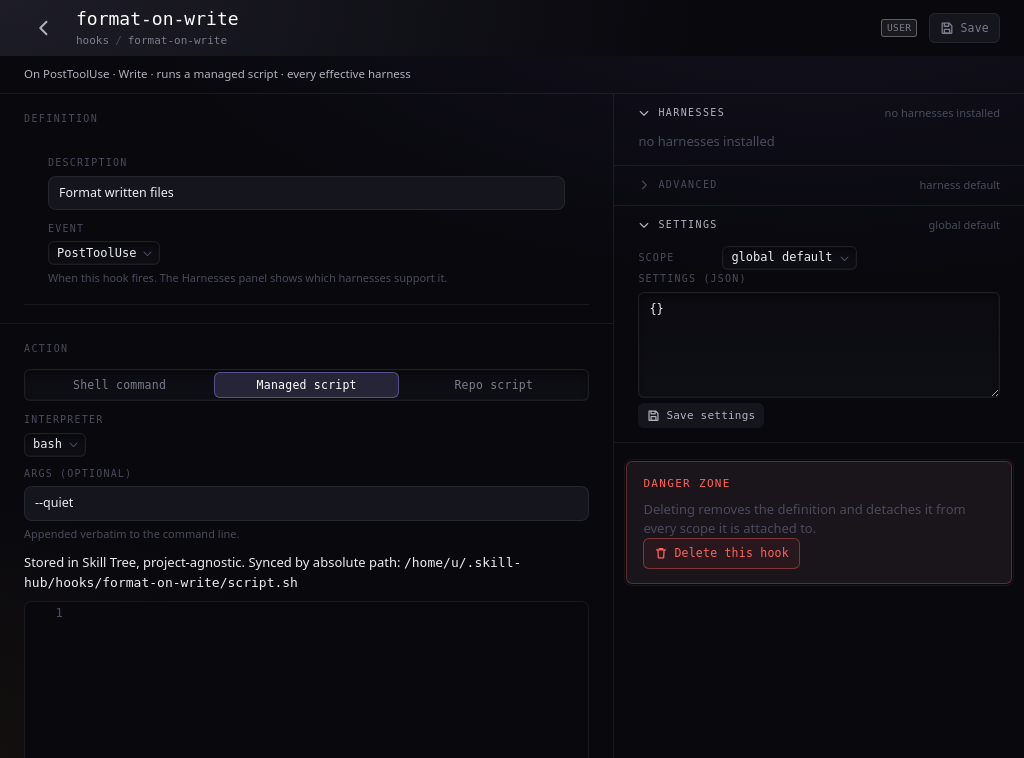
it: HookActionEditor — switching away from a managed script (D6) › gates the save behind a confirm that names the file being deleted
Expected: the text "/home/u/.skill-hub/hooks/format-on-write/script.sh" is shown, [24,556,521,590]
Step 1. Click the radio button labelled "Shell command" → point(120, 385), box [73,378,166,392]
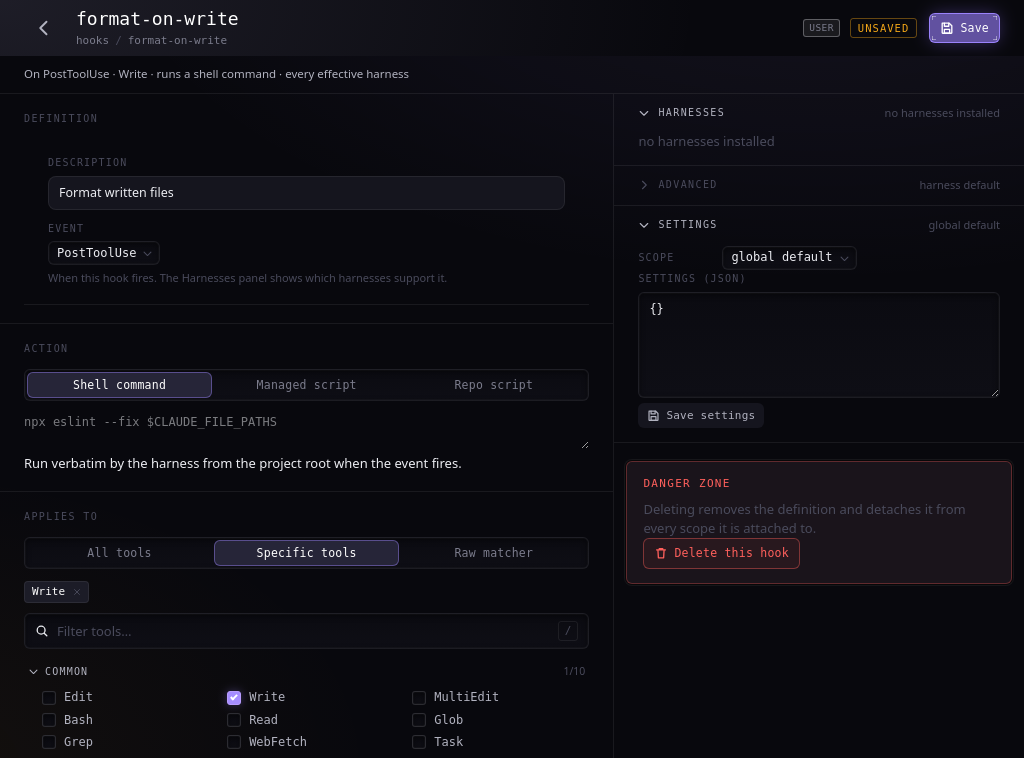
Step 2. Type "echo hi" into the text box named "command" → point(307, 431), box [24,413,589,449]
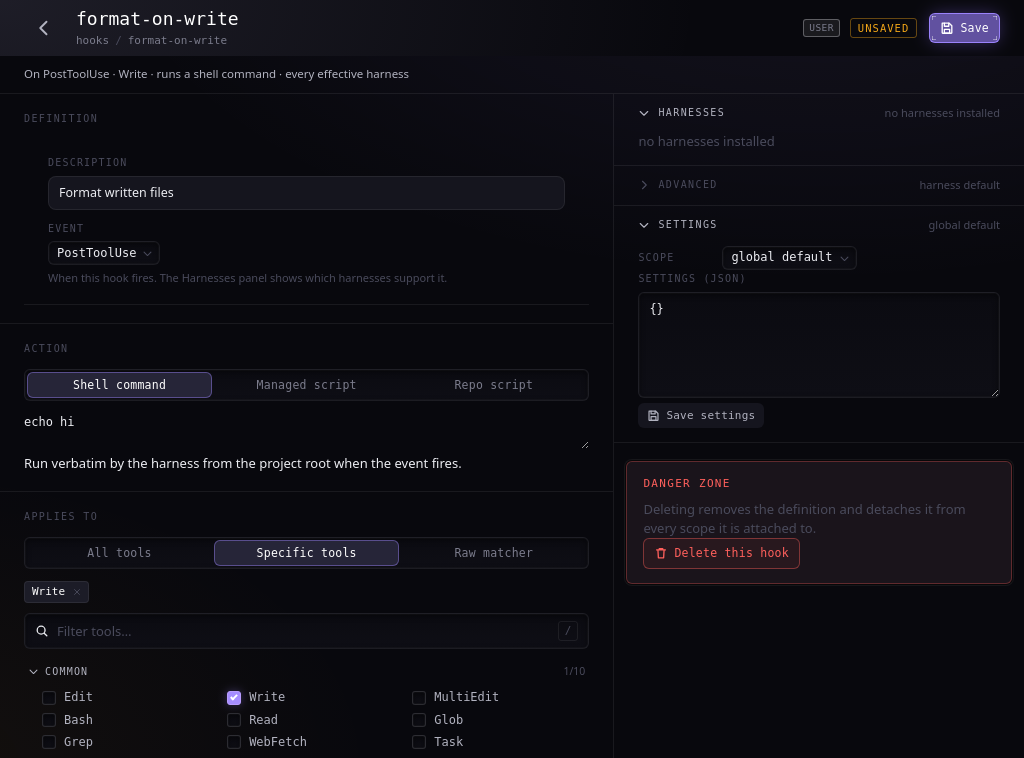
Step 3. Click the button "Save" → point(965, 28), box [929,13,1000,43]
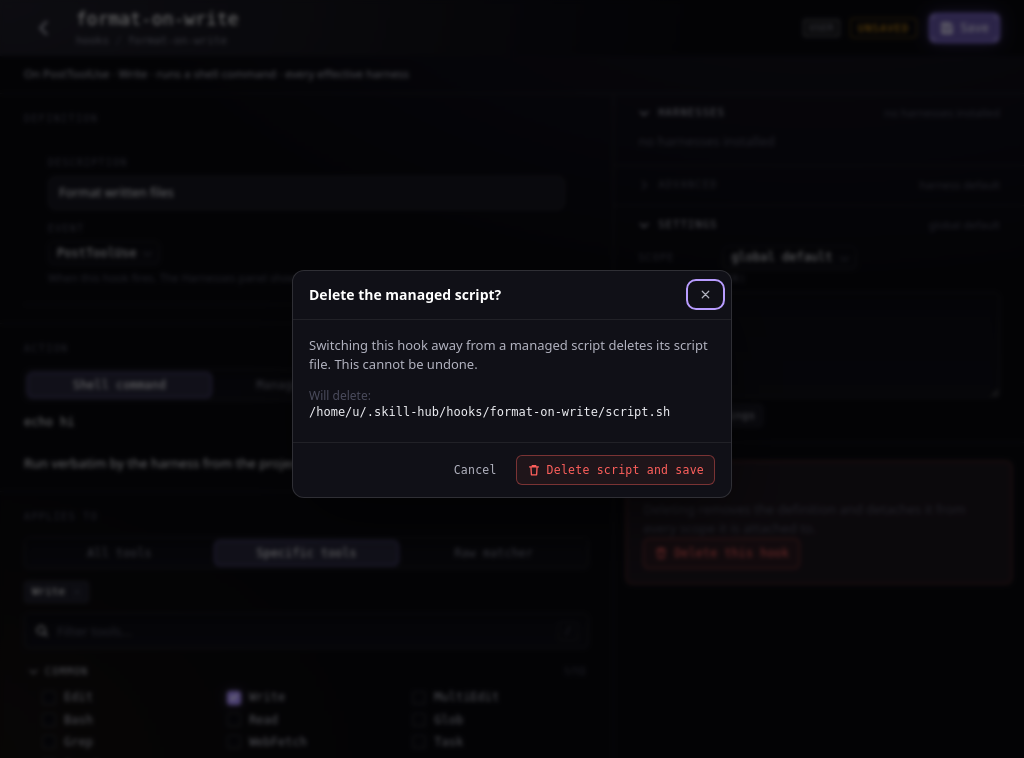
Expected: the dialog shows "Delete the managed script?", [309,285,501,304]
Expected: the dialog shows "/home/u/.skill-hub/hooks/format-on-write/script.sh", [309,405,670,419]
